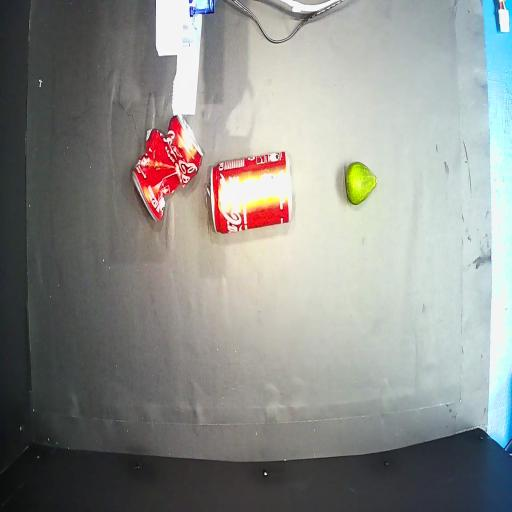higo: (345, 162, 377, 205)
lata: (209, 152, 293, 233)
lata_defectuoso: (133, 116, 203, 221)
